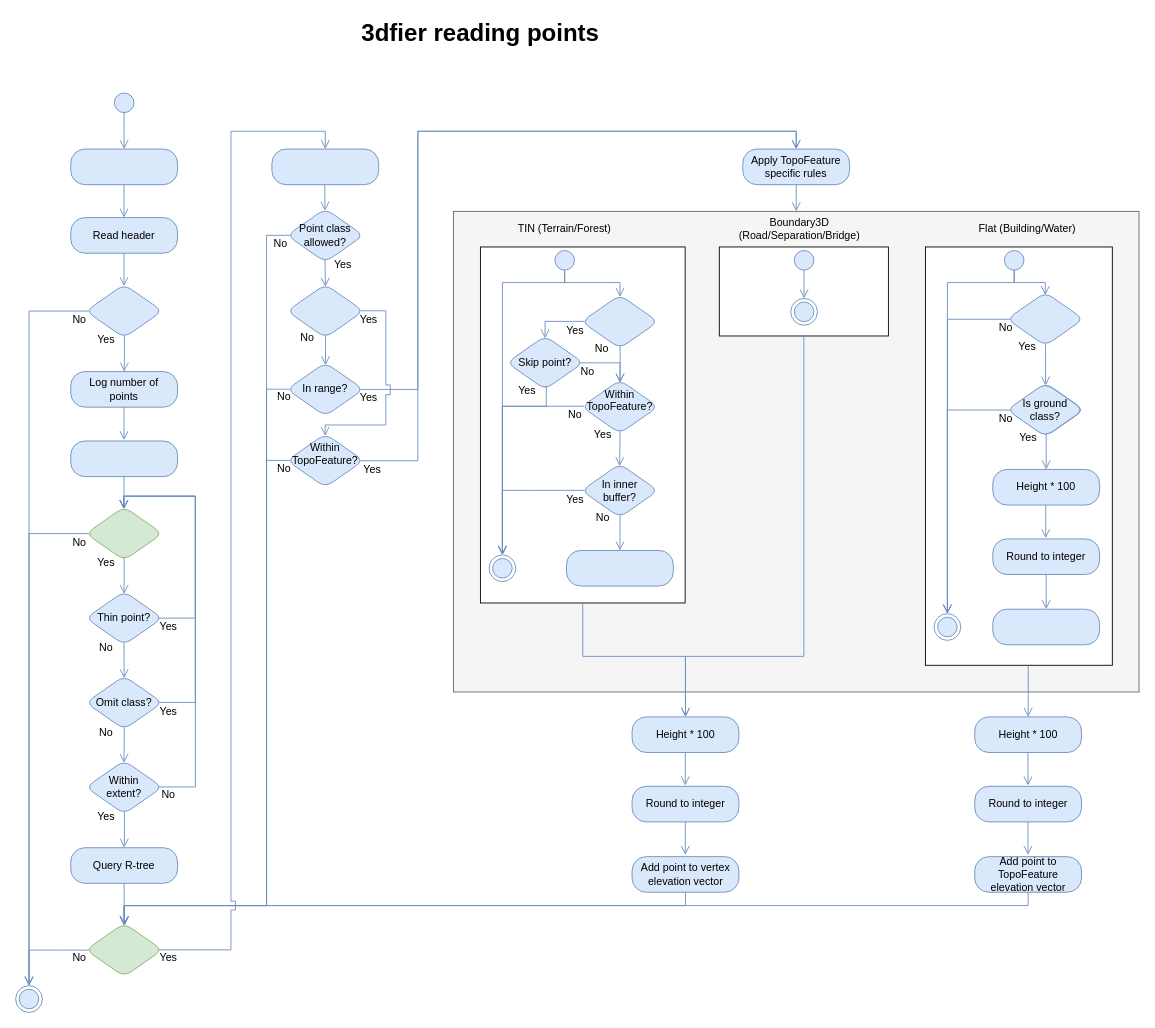
This 1155x1028 diagram has some shape labels left out. The centre of each missing label's shape, as x and y in pixels:
"Add point to TopoFeature ground vector" belongs at pixel 1046 626.
"Add to point vector" belongs at pixel 619 568.
"File within extent?" belongs at pixel 123 310.
"Get TopoFeature class" belongs at pixel 325 166.
"Is Building?" belongs at pixel 1045 318.
"Need be within?" belongs at pixel 325 310.
"Next Point" belongs at pixel 123 533.
"Next TopoFeature" belongs at pixel 123 949.
"Open file" belongs at pixel 124 166.
"Read point" belongs at pixel 124 458.
"Simplify random?" belongs at pixel 619 321.
